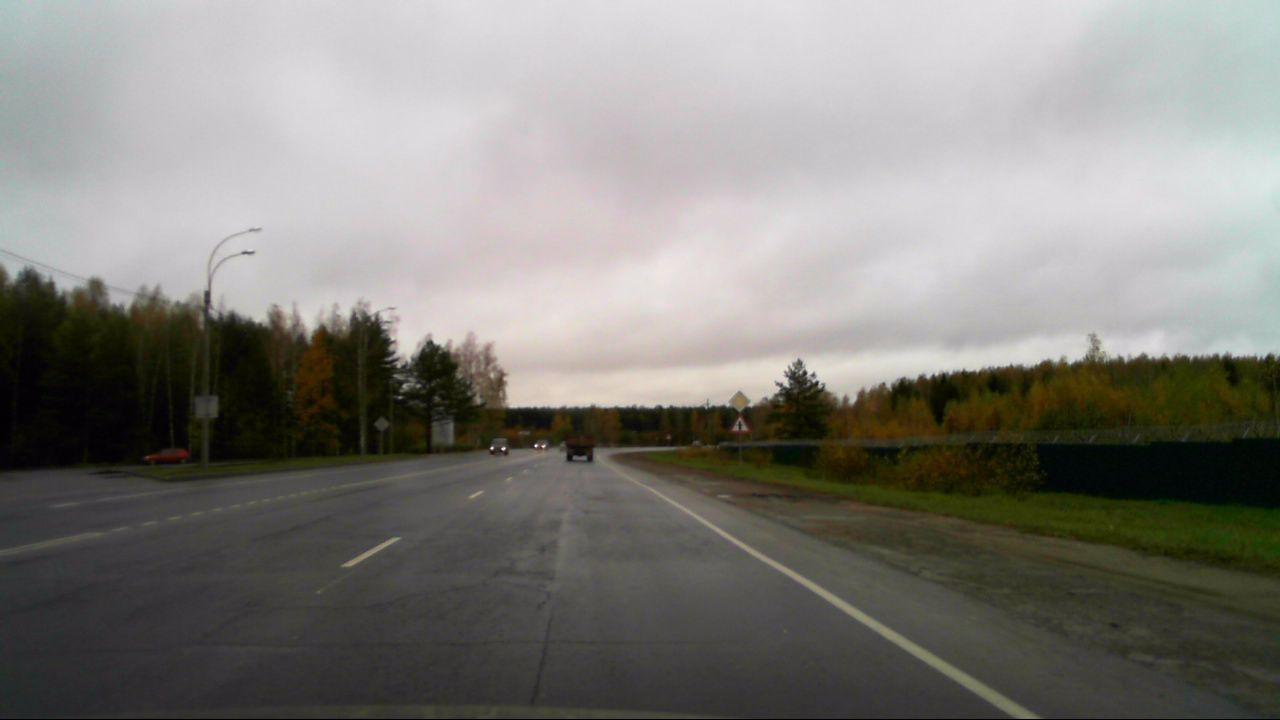2_1: (725, 388, 752, 413)
2_3_1: (727, 414, 751, 435)
